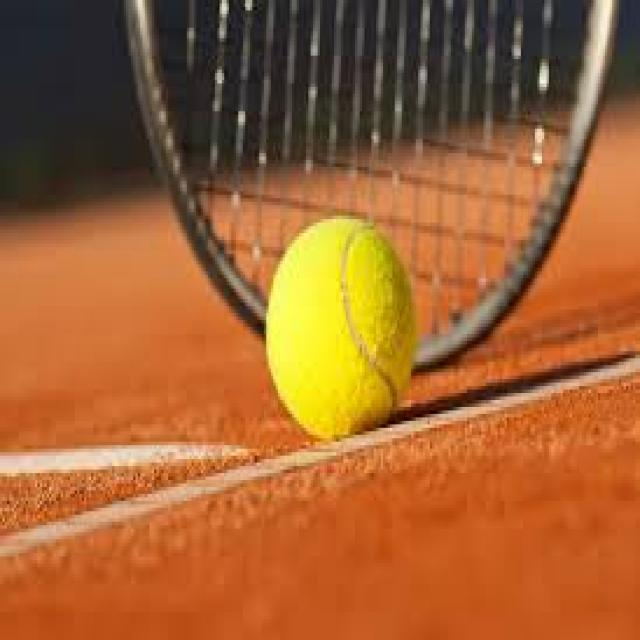ball: (262, 215, 423, 440)
